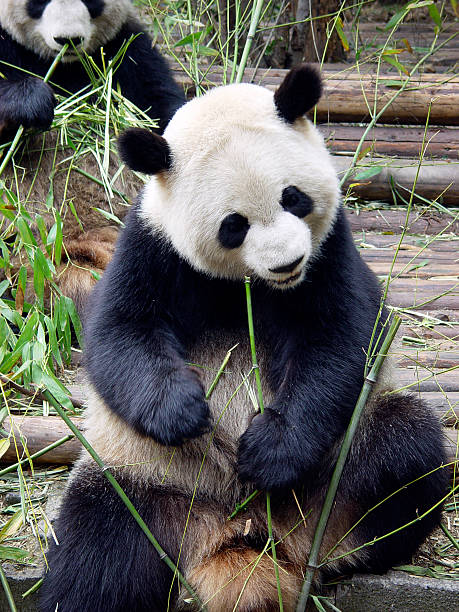panda: (92, 56, 369, 322)
